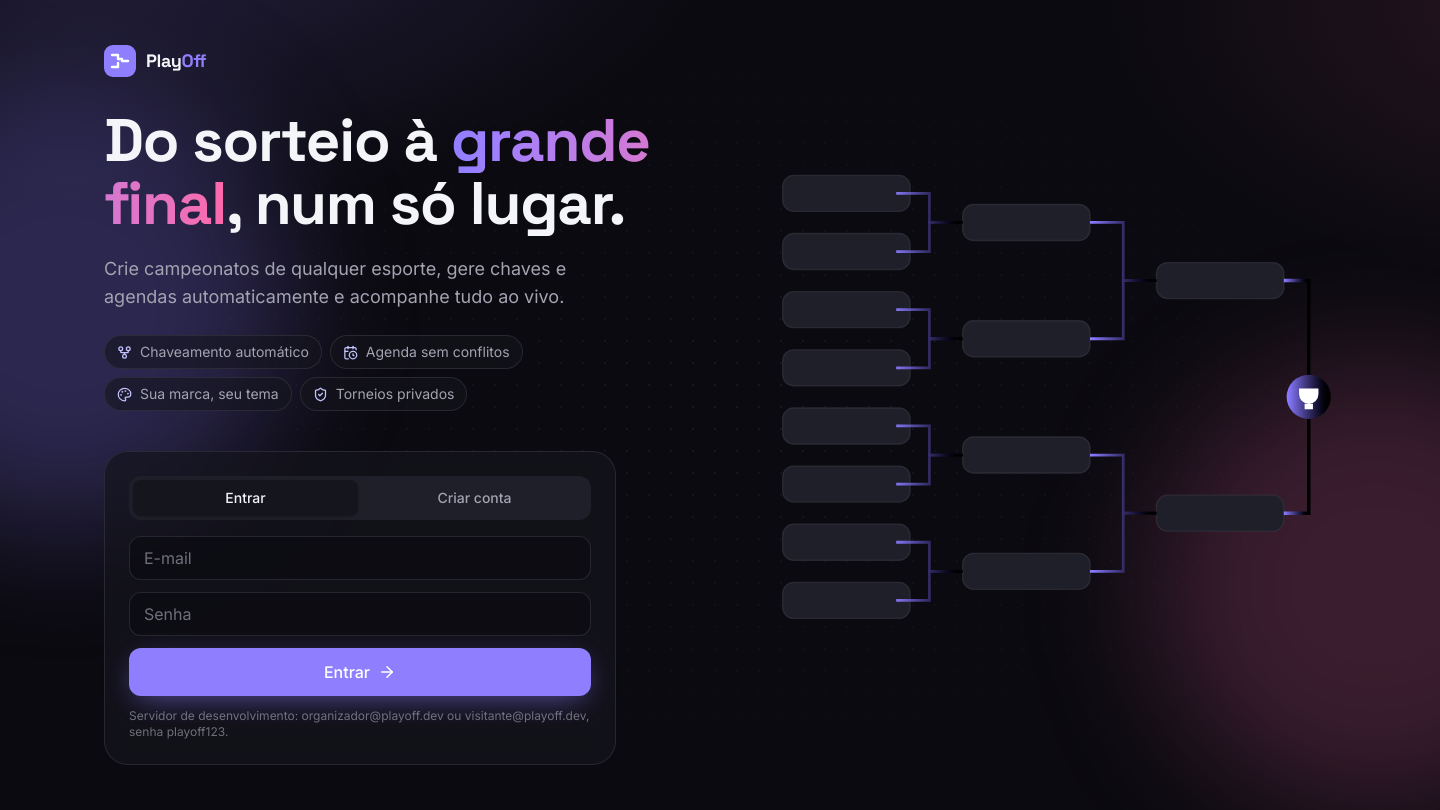
Test: modo API: login e cadastro (RF07) › sem conexão com o servidor mostra aviso claro
Type "a@b.com" into the field labelled "E-mail".
click(360, 558); type("a@b.com")  # box [129,536,591,580]
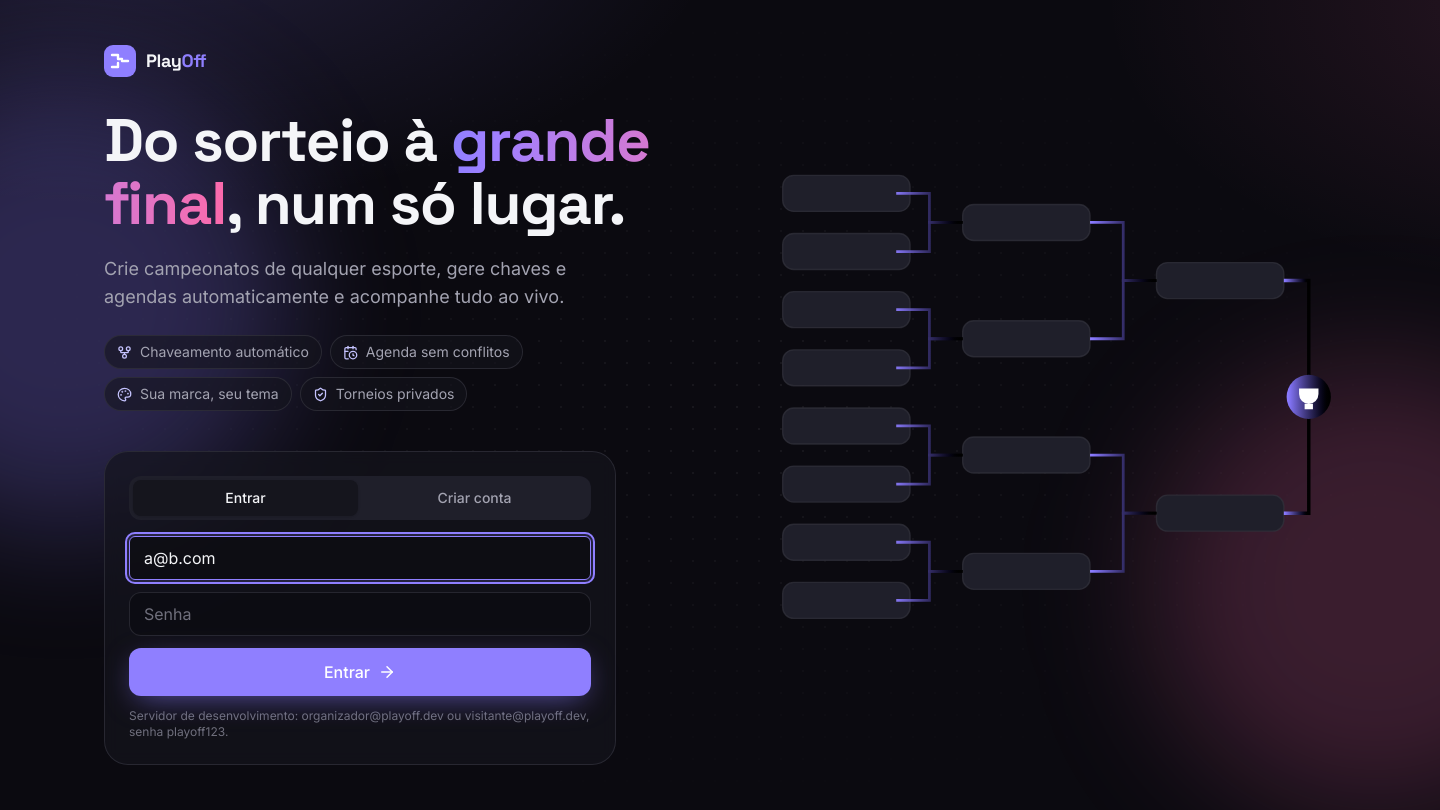
Type "x" into the password field labelled "Senha".
click(360, 614); type("x")  # box [129,592,591,636]
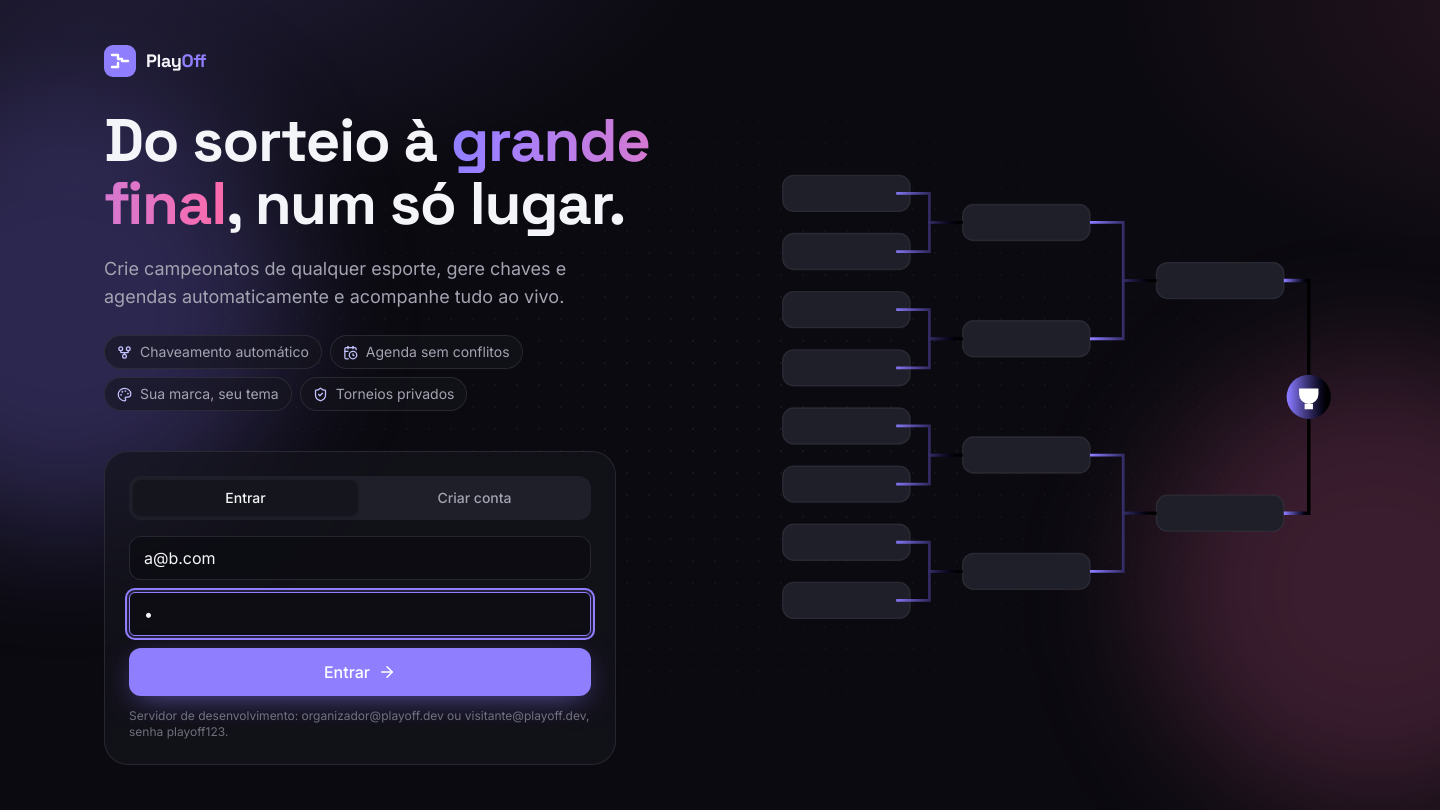
Click the button "Entrar".
click(360, 672)  # box [129,648,591,696]
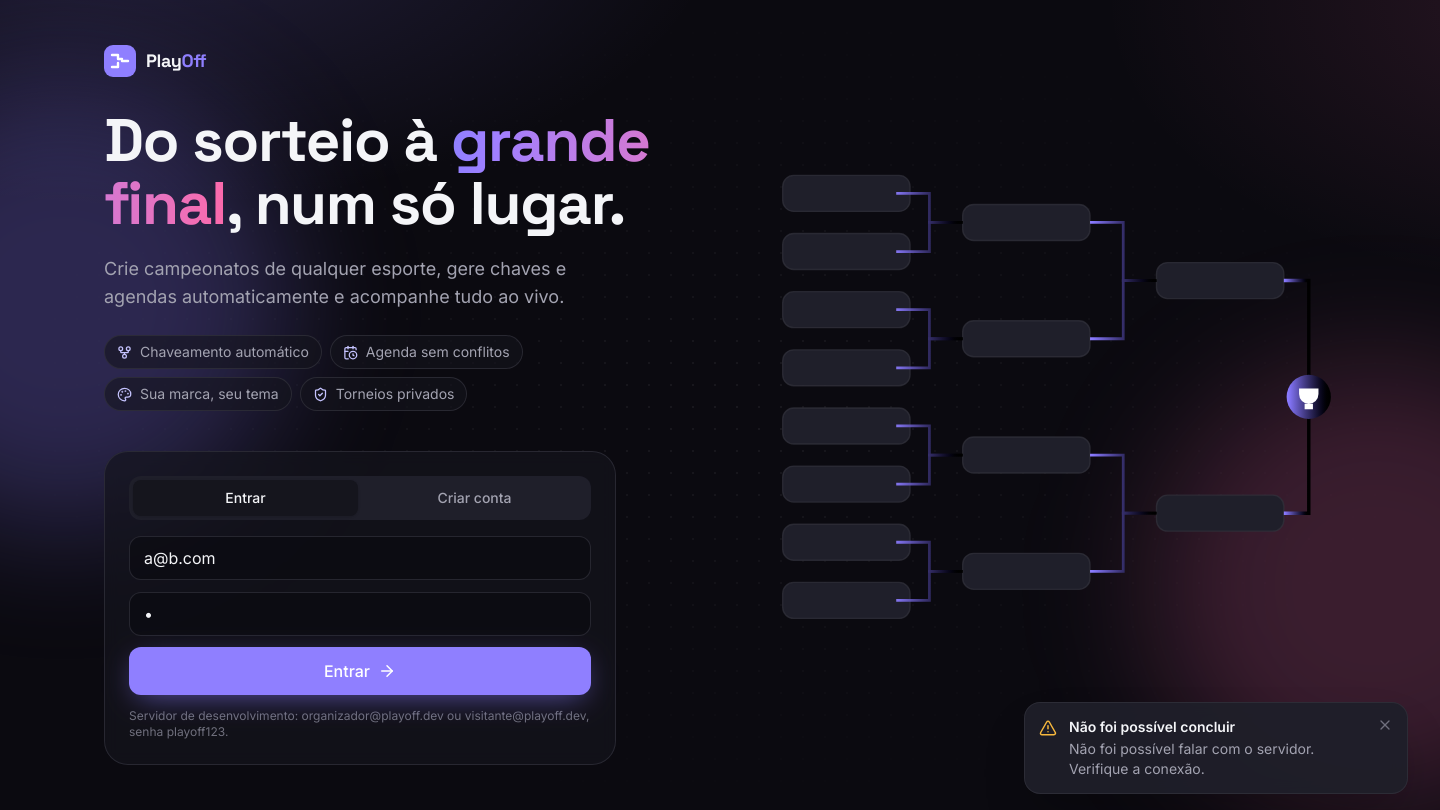
Check: the text "Não foi possível falar com o servidor. Verifique a conexão." is shown, box [1069,740,1314,777]
